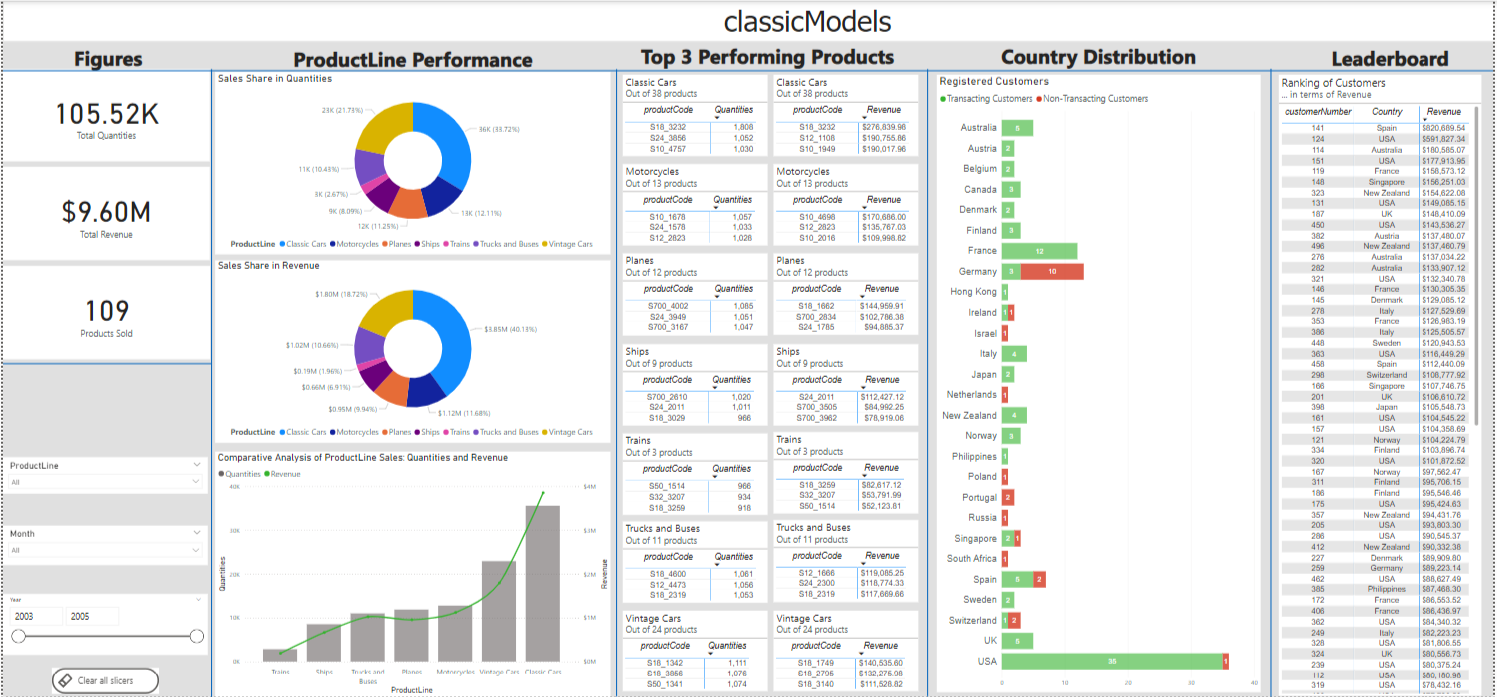

This screenshot's page, from the dashboard's own definition file:
{"tool":"powerbi","page":{"name":"classicModels","canvas":[2780,1300],"ordinal":0},"visuals":[{"type":"textbox","box":[0,0,3000.4,76.8],"z":0},{"type":"donutChart","title":"Sales Share in Quantities","fields":{"Category":["ProductLine Sales.productLine"],"Y":["Sum(ProductLine Sales.Quantities)"]},"box":[395,132.5,737.5,340],"z":1000},{"type":"donutChart","title":"Sales Share in Revenue ","fields":{"Category":["ProductLine Sales.productLine"],"Y":["Sum(ProductLine Sales.Revenue)"]},"box":[395,485,737.5,340],"z":2000},{"type":"textbox","box":[1142,72,566,62],"z":3000},{"type":"pivotTable","title":"Classic Cars","fields":{"Rows":["ProductLine Sales.ProductCode"],"Values":["Sum(ProductLine Sales.Quantities)"]},"box":[1156.9,137.8,270,152],"z":4000},{"type":"pivotTable","title":"Classic Cars","fields":{"Rows":["ProductLine Sales.ProductCode"],"Values":["Sum(ProductLine Sales.Revenue)"]},"box":[1436.9,137.8,270,152],"z":5000},{"type":"pivotTable","title":"Motorcycles","fields":{"Rows":["ProductLine Sales.ProductCode"],"Values":["Sum(ProductLine Sales.Quantities)"]},"box":[1156.9,304.8,270,152],"z":6000},{"type":"pivotTable","title":"Motorcycles","fields":{"Rows":["ProductLine Sales.ProductCode"],"Values":["Sum(ProductLine Sales.Revenue)"]},"box":[1436.9,304.8,270,152],"z":7000},{"type":"pivotTable","title":"Planes","fields":{"Rows":["ProductLine Sales.ProductCode"],"Values":["Sum(ProductLine Sales.Quantities)"]},"box":[1156.9,470.8,270,153.3],"z":8000},{"type":"pivotTable","title":"Planes","fields":{"Rows":["ProductLine Sales.ProductCode"],"Values":["Sum(ProductLine Sales.Revenue)"]},"box":[1436.9,470.8,270,152],"z":9000},{"type":"pivotTable","title":"Ships","fields":{"Rows":["ProductLine Sales.ProductCode"],"Values":["Sum(ProductLine Sales.Quantities)"]},"box":[1156.6,640.2,270,152],"z":10000},{"type":"pivotTable","title":"Ships","fields":{"Rows":["ProductLine Sales.ProductCode"],"Values":["Sum(ProductLine Sales.Revenue)"]},"box":[1436.9,639.8,270,152],"z":11000},{"type":"pivotTable","title":"Trains","fields":{"Rows":["ProductLine Sales.ProductCode"],"Values":["Sum(ProductLine Sales.Quantities)"]},"box":[1156.9,805.8,270,152],"z":12000},{"type":"pivotTable","title":"Trains","fields":{"Rows":["ProductLine Sales.ProductCode"],"Values":["Sum(ProductLine Sales.Revenue)"]},"box":[1436.9,804.8,270,152],"z":13000},{"type":"pivotTable","title":"Trucks and Buses","fields":{"Rows":["ProductLine Sales.ProductCode"],"Values":["Sum(ProductLine Sales.Quantities)"]},"box":[1156.9,970.8,270,152],"z":14000},{"type":"pivotTable","title":"Trucks and Buses","fields":{"Rows":["ProductLine Sales.ProductCode"],"Values":["Sum(ProductLine Sales.Revenue)"]},"box":[1436.6,968.5,270,153.3],"z":15000},{"type":"pivotTable","title":"Vintage Cars","fields":{"Rows":["ProductLine Sales.ProductCode"],"Values":["Sum(ProductLine Sales.Revenue)"]},"box":[1436.9,1138.2,270,152],"z":16000},{"type":"lineClusteredColumnComboChart","title":"Comparative Analysis of ProductLine Sales: Quantities and Revenue","fields":{"Category":["ProductLine Sales.productLine"],"Y":["Sum(ProductLine Sales.Quantities)"],"Y2":["Sum(ProductLine Sales.Revenue)"]},"box":[395,840,737.5,460],"z":17000},{"type":"pivotTable","title":"Vintage Cars","fields":{"Rows":["ProductLine Sales.ProductCode"],"Values":["Sum(ProductLine Sales.Quantities)"]},"box":[1156.6,1138.5,270,152],"z":18000},{"type":"shape","box":[382.5,127.5,12.5,1172.5],"z":19000},{"type":"shape","box":[1138.3,128.3,13.3,1171.7],"z":20000},{"type":"textbox","box":[481.4,77.1,565.7,61.4],"z":21000},{"type":"card","fields":{"Values":["Sum(ProductLine Sales.Quantities)"]},"box":[0,127.5,385.2,171.8],"z":22000},{"type":"card","fields":{"Values":["Sum(ProductLine Sales.Revenue)"]},"box":[0,309.7,385.2,174.4],"z":23000},{"type":"slicer","fields":{"Values":["ProductLine Sales.orderDate.Variation.Date Hierarchy.Year"]},"box":[0,1106,382,114],"z":24000},{"type":"slicer","fields":{"Values":["ProductLine Sales.orderDate.Variation.Date Hierarchy.Month"]},"box":[0,978,382,74],"z":25000},{"type":"slicer","fields":{"Values":["ProductLine Sales.productLine"]},"box":[0,852,382,68],"z":26000},{"type":"actionButton","box":[90,1245,200,50],"z":27000},{"type":"shape","box":[0,670,388.6,15.7],"z":28000},{"type":"card","fields":{"Values":["Count(ProductLine Sales.productCode)"]},"box":[0,494,386,174],"z":29000},{"type":"textbox","box":[3,76.8,386.9,62],"z":30000},{"type":"shape","box":[0,123.8,2997.5,11.2],"z":31000},{"type":"actionButton","box":[2900,20,100,40],"z":32000},{"type":"tableEx","title":"Ranking of Customers","fields":{"Values":["Country.customerNumber","Country.Country","Sum(Country.Revenue)"]},"box":[2380,136.7,380,1160],"z":33000},{"type":"barChart","title":"Registered Customers","fields":{"Category":["Country.Country"],"Y":["Country.transacting","Country.non transacting"]},"box":[1741.2,138.8,603.8,1153.8],"z":34000},{"type":"shape","box":[1717.5,128.8,12.5,1171.2],"z":35000},{"type":"shape","box":[2357.5,128.8,12.5,1171.2],"z":36000},{"type":"textbox","box":[1760.1,73.8,567,62],"z":37000},{"type":"textbox","box":[2397.9,76.8,381,62],"z":38000}]}

Visuals, with their boxes in screenshot pixels (x1, y1, x2, y2), scaled from the page's 2780x1300 canvas onto the 1497x697 screenshot:
textbox: [left=0, top=0, right=1496, bottom=41]
"Sales Share in Quantities" donutChart: [left=213, top=71, right=610, bottom=253]
"Sales Share in Revenue " donutChart: [left=213, top=260, right=610, bottom=442]
textbox: [left=615, top=39, right=920, bottom=72]
"Classic Cars" pivotTable: [left=623, top=74, right=768, bottom=155]
"Classic Cars" pivotTable: [left=774, top=74, right=919, bottom=155]
"Motorcycles" pivotTable: [left=623, top=163, right=768, bottom=245]
"Motorcycles" pivotTable: [left=774, top=163, right=919, bottom=245]
"Planes" pivotTable: [left=623, top=252, right=768, bottom=335]
"Planes" pivotTable: [left=774, top=252, right=919, bottom=334]
"Ships" pivotTable: [left=623, top=343, right=768, bottom=425]
"Ships" pivotTable: [left=774, top=343, right=919, bottom=425]
"Trains" pivotTable: [left=623, top=432, right=768, bottom=514]
"Trains" pivotTable: [left=774, top=431, right=919, bottom=513]
"Trucks and Buses" pivotTable: [left=623, top=520, right=768, bottom=602]
"Trucks and Buses" pivotTable: [left=774, top=519, right=919, bottom=601]
"Vintage Cars" pivotTable: [left=774, top=610, right=919, bottom=692]
"Comparative Analysis of ProductLine Sales: Quantities and Revenue" lineClusteredColumnComboChart: [left=213, top=450, right=610, bottom=696]
"Vintage Cars" pivotTable: [left=623, top=610, right=768, bottom=692]
shape: [left=206, top=68, right=213, bottom=696]
shape: [left=613, top=69, right=620, bottom=696]
textbox: [left=259, top=41, right=564, bottom=74]
card - Sum(ProductLine Sales.Quantities): [left=0, top=68, right=207, bottom=160]
card - Sum(ProductLine Sales.Revenue): [left=0, top=166, right=207, bottom=260]
slicer - ProductLine Sales.orderDate.Variation.Date Hierarchy.Year: [left=0, top=593, right=206, bottom=654]
slicer - ProductLine Sales.orderDate.Variation.Date Hierarchy.Month: [left=0, top=524, right=206, bottom=564]
slicer - ProductLine Sales.productLine: [left=0, top=457, right=206, bottom=493]
actionButton: [left=48, top=668, right=156, bottom=694]
shape: [left=0, top=359, right=209, bottom=368]
card - Count(ProductLine Sales.productCode): [left=0, top=265, right=208, bottom=358]
textbox: [left=2, top=41, right=210, bottom=74]
shape: [left=0, top=66, right=1496, bottom=72]
"Ranking of Customers" tableEx: [left=1282, top=73, right=1486, bottom=695]
"Registered Customers" barChart: [left=938, top=74, right=1263, bottom=693]
shape: [left=925, top=69, right=932, bottom=696]
shape: [left=1269, top=69, right=1276, bottom=696]
textbox: [left=948, top=40, right=1253, bottom=73]
textbox: [left=1291, top=41, right=1496, bottom=74]
